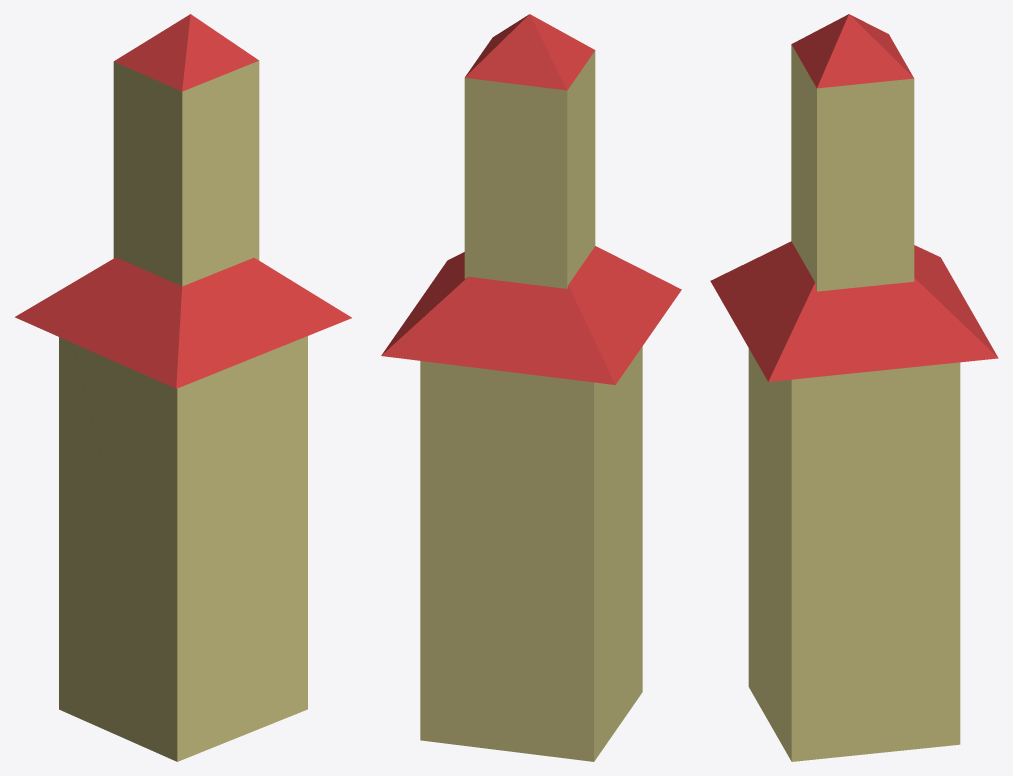
3 views of the same model, side by side, from view 1: azimuth 30°, elevation 25°; view 2: azimuth 150°, elevation 25°; view 3: azimuth 270°, elevation 25° (orthographic).
Size of the model in its own units: 4.63 by 4.52 by 12.18.
